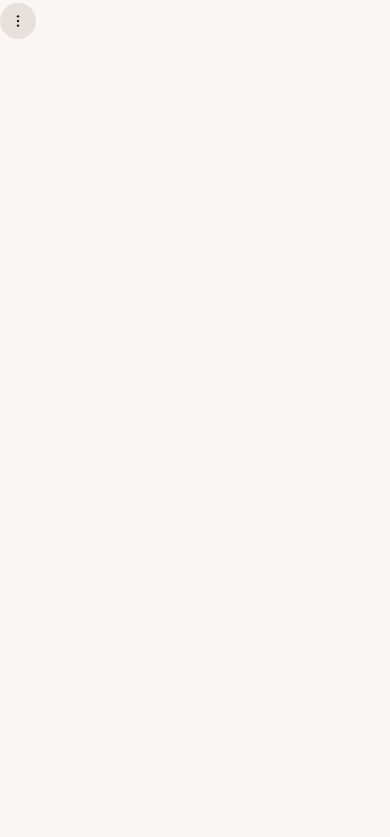
Test: <TrackMenu /> › 7.2 — the permanent blocks sit in their own group, and a long artist name is never sliced
Click the button named "More options". click: (18, 21)
box: [0, 3, 36, 39]
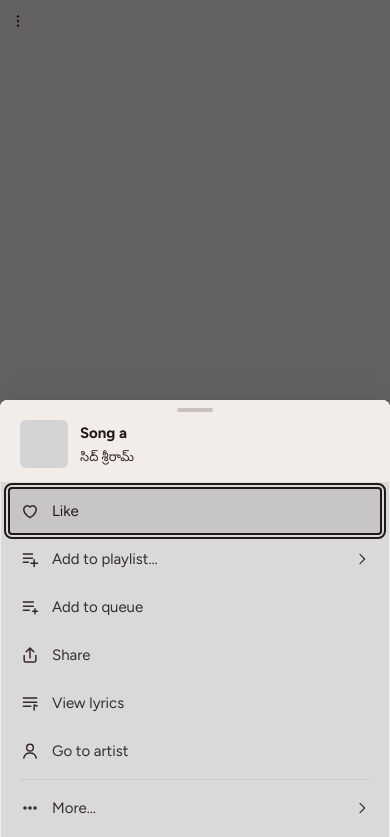
Click the menu item "More…". click: (74, 808)
box: [8, 784, 382, 832]
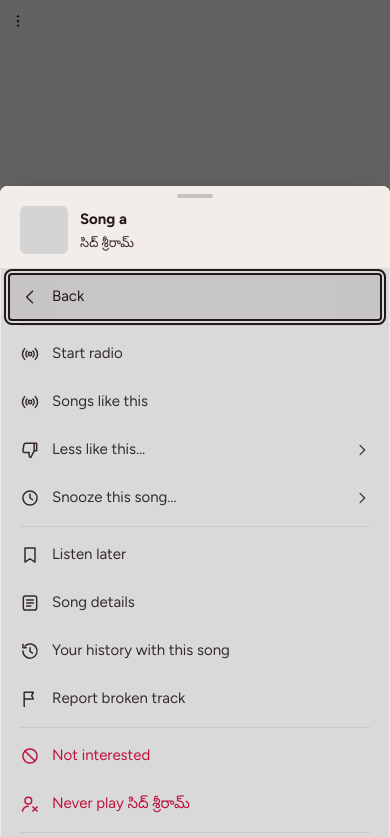
Result: the text "Not interested" is shown at [52, 744, 150, 767]
Result: the text "Never play సిద్ శ్రీరామ్" is shown at [52, 792, 190, 815]
